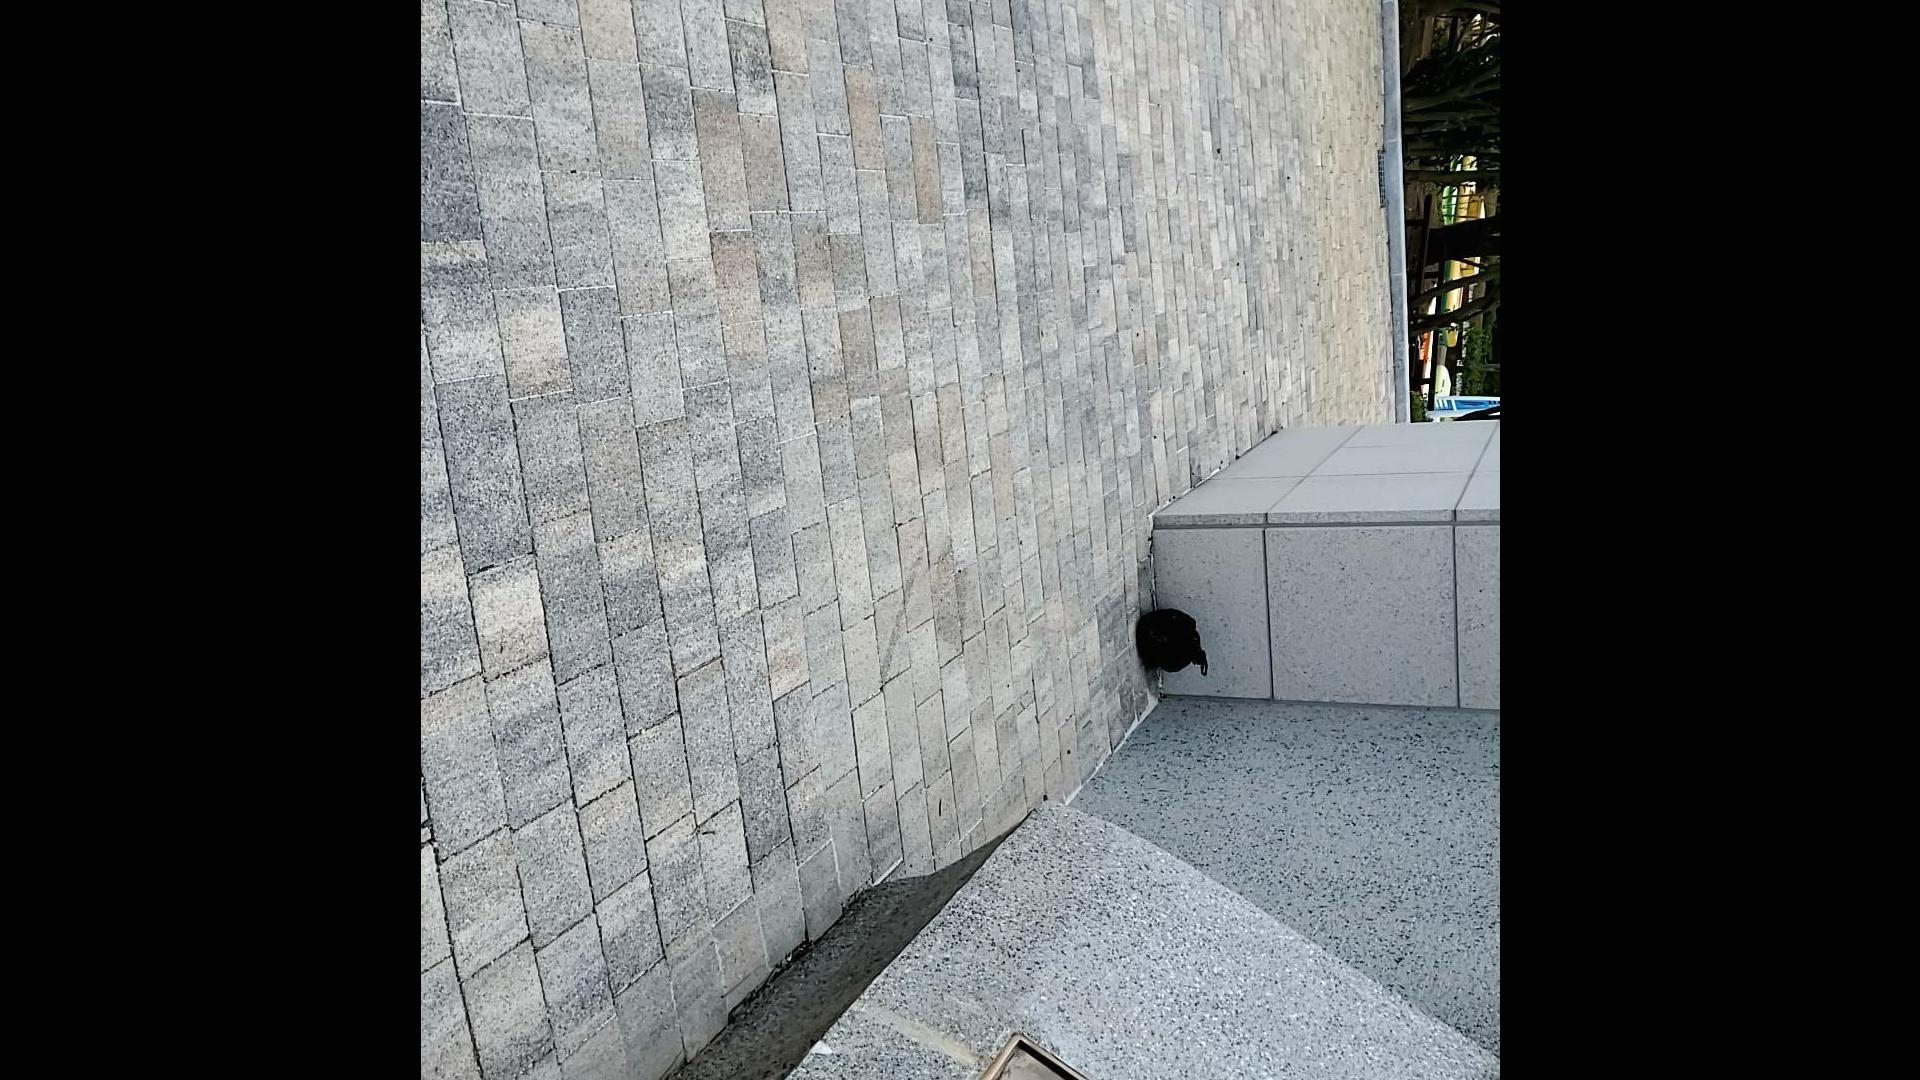black_bag: (1133, 604, 1215, 679)
